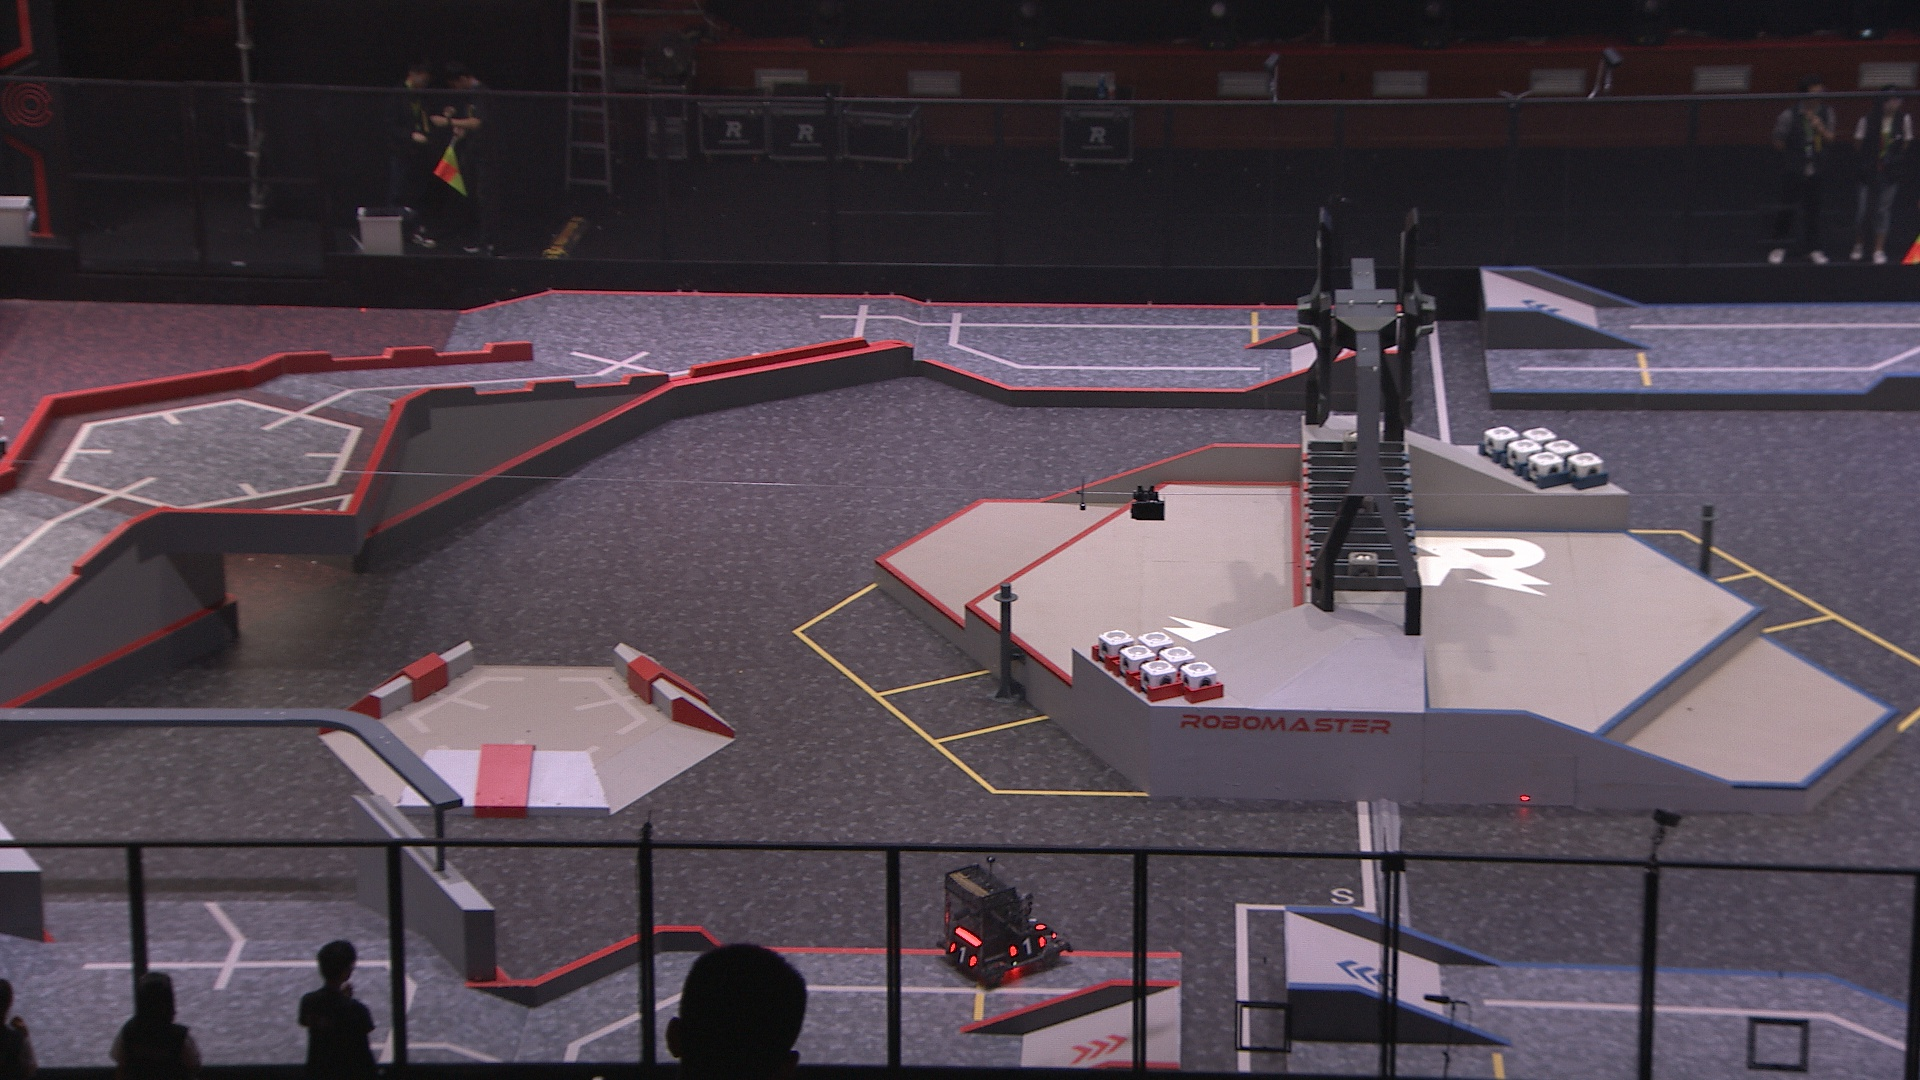armor: (1007, 934, 1046, 959), (948, 942, 978, 968)
car: (936, 865, 1069, 988)
